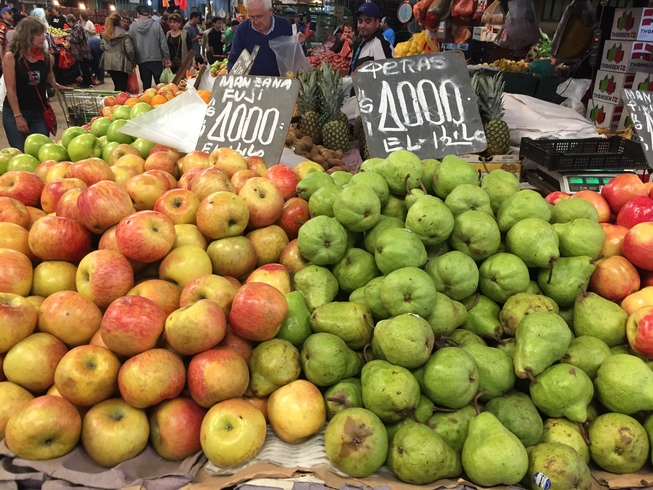precio: (356, 57, 487, 168), (206, 73, 299, 170)
